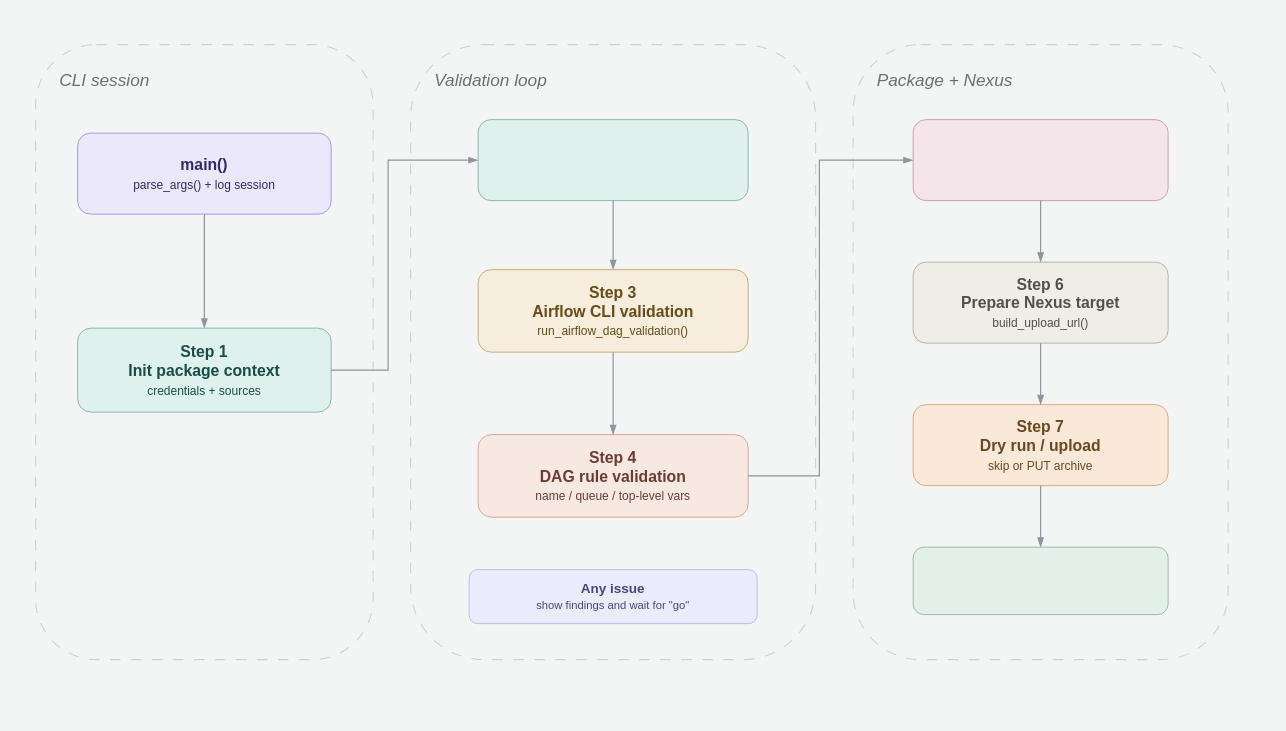
This 1286x731 diagram has some shape labels left out. The centre of each missing label's shape, as x and y in pixels:
"Step 2 Syntax validation collect_python_sources() + AST parse" belongs at (612,160).
"Step 5 Create archive create_archive() + SHA256" belongs at (1040,160).
"Step 8 Summary + log files" belongs at (1040,580).
